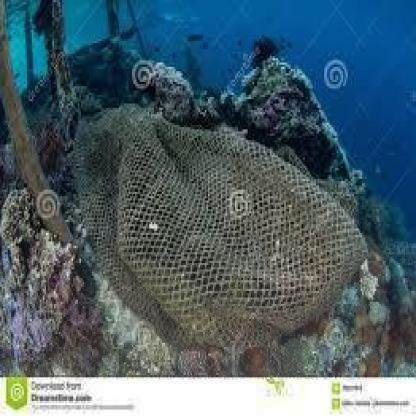net: (78, 114, 365, 343)
